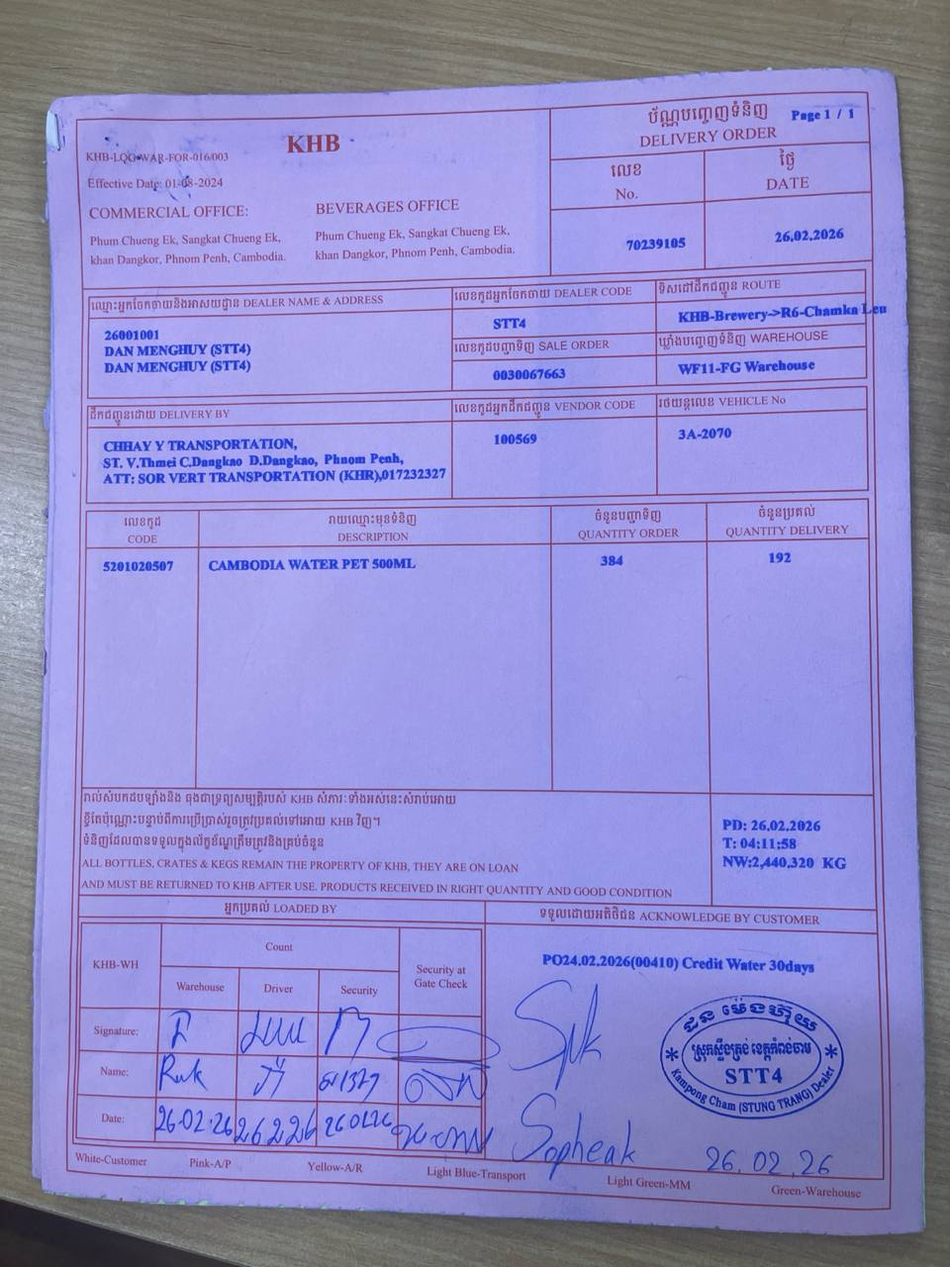Dealer Code: (451, 274, 657, 333)
Invoice Date: (706, 195, 874, 268)
Invoice No: (547, 203, 707, 276)
Sale Order: (451, 332, 657, 395)
Vehicle Code: (655, 388, 875, 498)
Vender Code: (451, 394, 660, 505)
